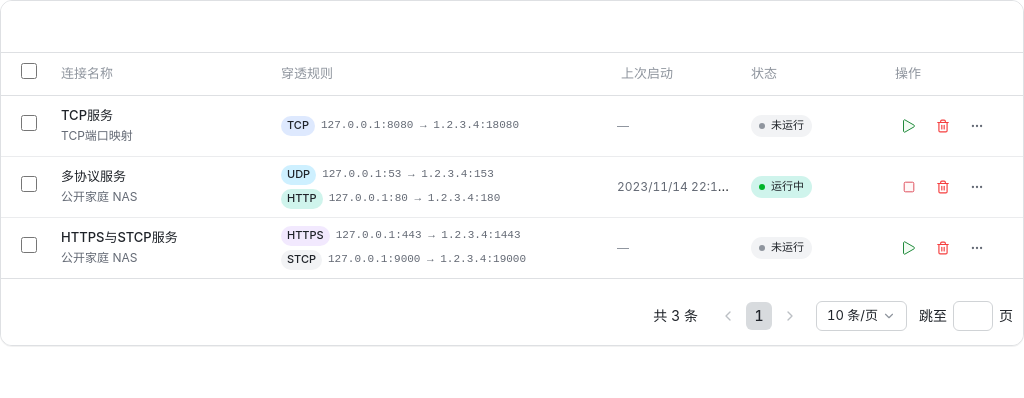
Test case: ProfileConnectionsTable › 局部批量操作区 › 单项删除按钮使用红色警示样式，且更多操作弹层不再重复包含删除连接
expect the button named "删除连接" in the row of "TCP端口映射" is shown: met, box [929,112,957,140]
打开第一个更多操作菜单
Step 1. Click the button named "更多操作" in the row of "TCP端口映射" → coordinates (977, 126), box [963,112,991,140]
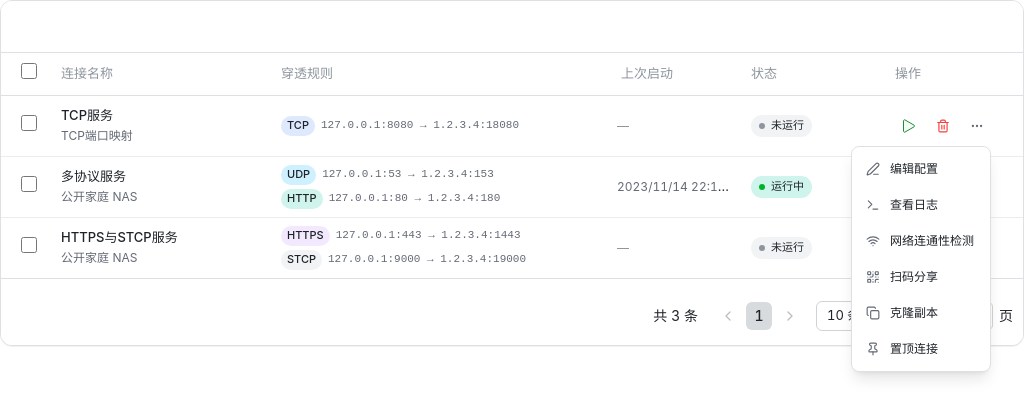
expect the text "编辑配置" is shown: met, box [890,160,938,178]
